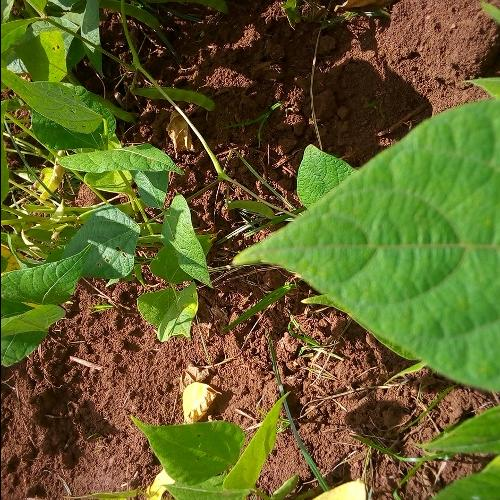hawar: (90, 227, 133, 272)
sehat: (364, 173, 500, 312)
